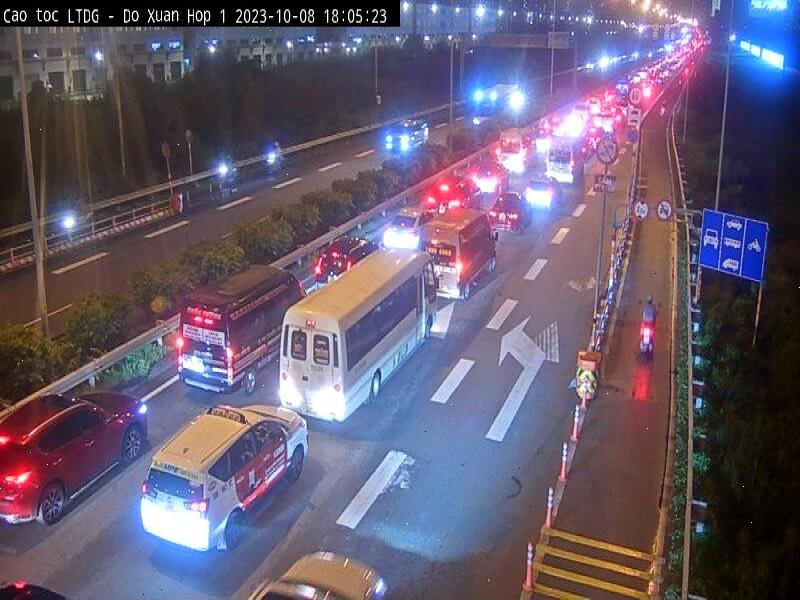bus: (270, 243, 470, 432)
car: (135, 392, 322, 564), (0, 381, 160, 533), (176, 262, 305, 392), (415, 200, 514, 315)
